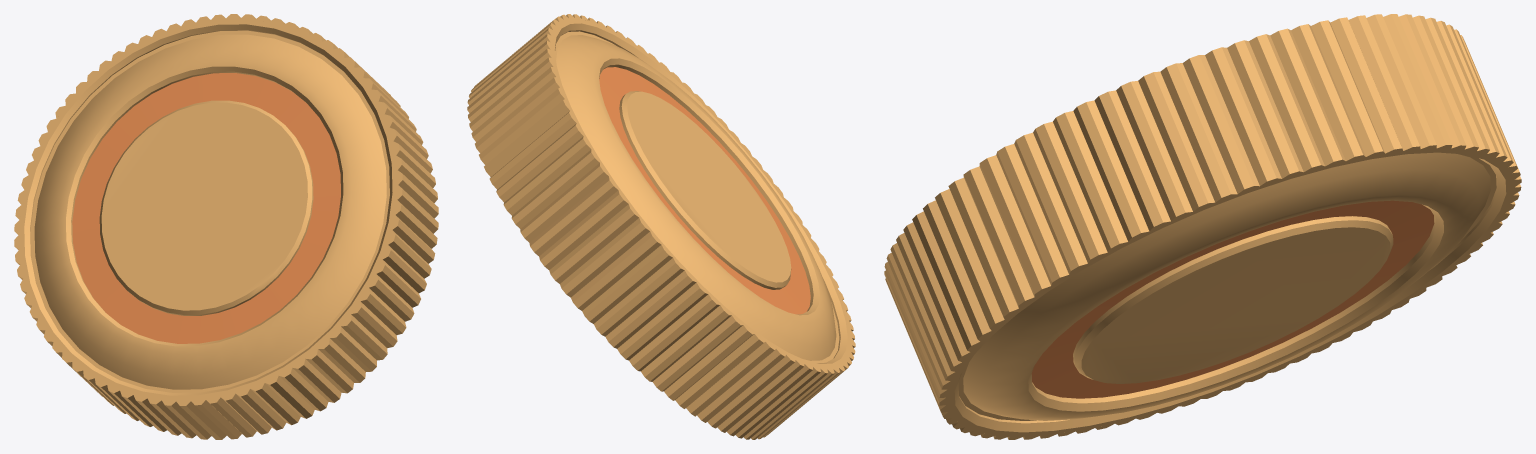
Rendered from coin_a.glb.
3 renders of one model, left to right at view 1: azimuth 30°, elevation 25°; view 2: azimuth 150°, elevation 25°; view 3: azimuth 270°, elevation 25°, orthographic. The views are drawn at different scales.
Parts seen in each view (by area): view 1: Cylinder.073; view 2: Cylinder.073; view 3: Cylinder.073.
Part boxes in pixels (x1,y1,x2,y2): Cylinder.073: (14,14,438,439); Cylinder.073: (467,14,855,439); Cylinder.073: (884,14,1521,439).
Size of the model in its own units: 3.89 by 3.78 by 4.29.
